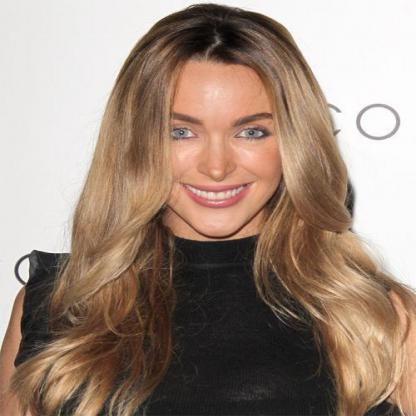long-hair: (59, 240, 374, 288)
